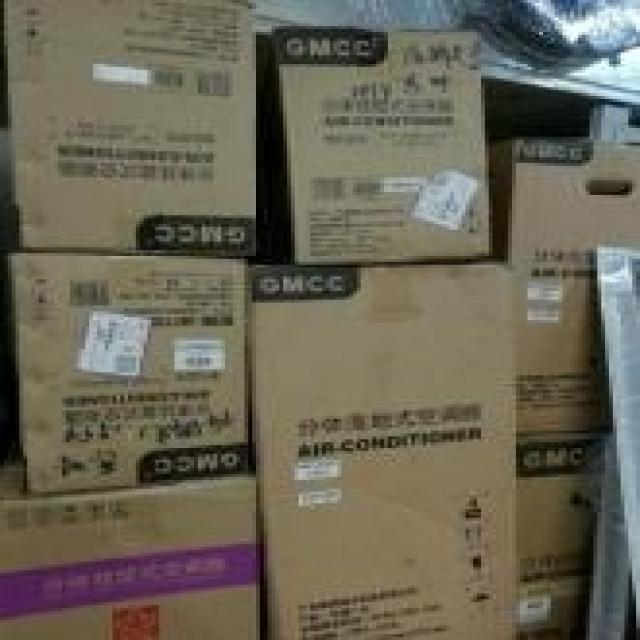box: (252, 253, 520, 640), (0, 0, 256, 253), (12, 247, 252, 495), (252, 26, 489, 265), (0, 457, 264, 640), (485, 140, 640, 433), (516, 433, 613, 637)
